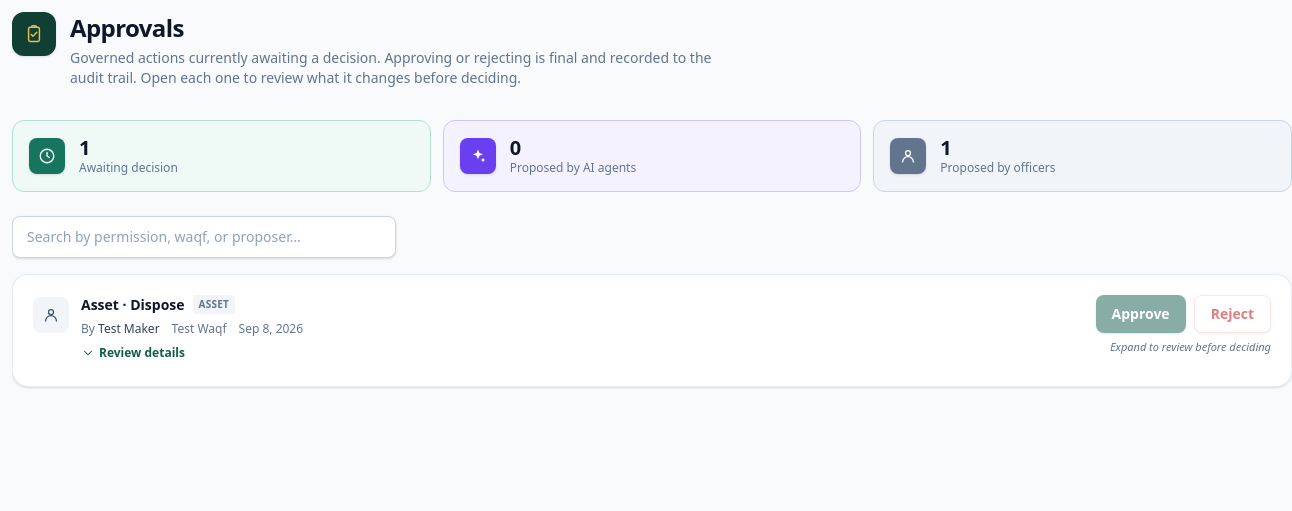
Scenario: GovernedActionsPage › Approve/Reject are disabled until the row's payload has been expanded, then become enabled
This screenshot has width=1292, height=511.
expect the button "Approve" is disabled: met, box [1096, 294, 1186, 332]
expect the button "Reject" is disabled: met, box [1194, 294, 1271, 332]
Step 1. Click the text "Asset · Dispose" → {"x": 133, "y": 304}, box [81, 294, 184, 314]
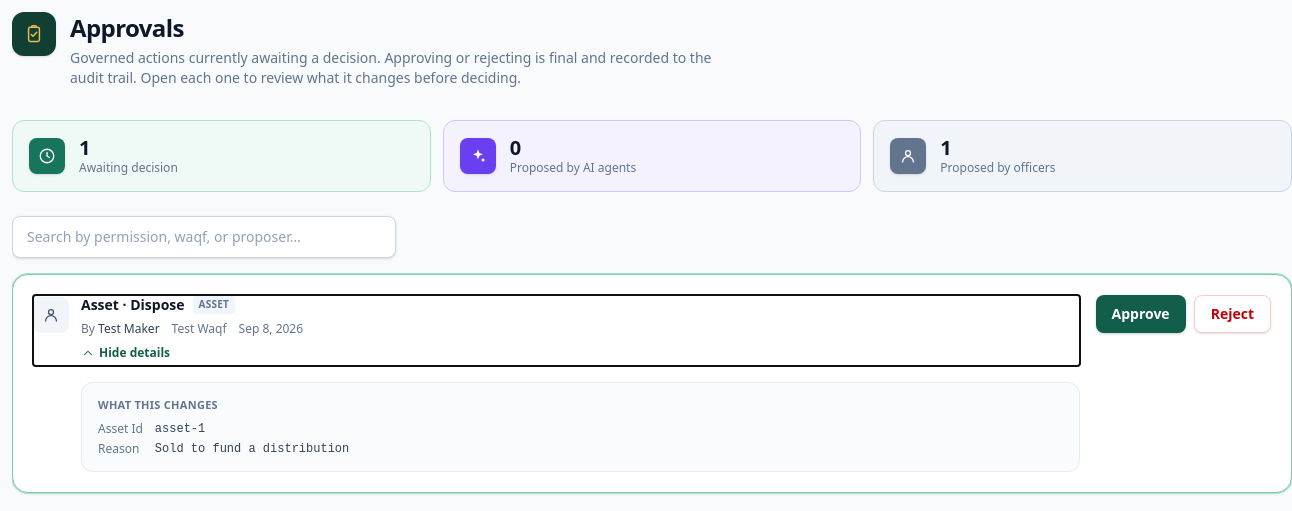
expect the button "Approve" is enabled: met, box [1096, 294, 1186, 332]
expect the button "Reject" is enabled: met, box [1194, 294, 1271, 332]
expect the text "Expand to review before deciding" is gone: met
